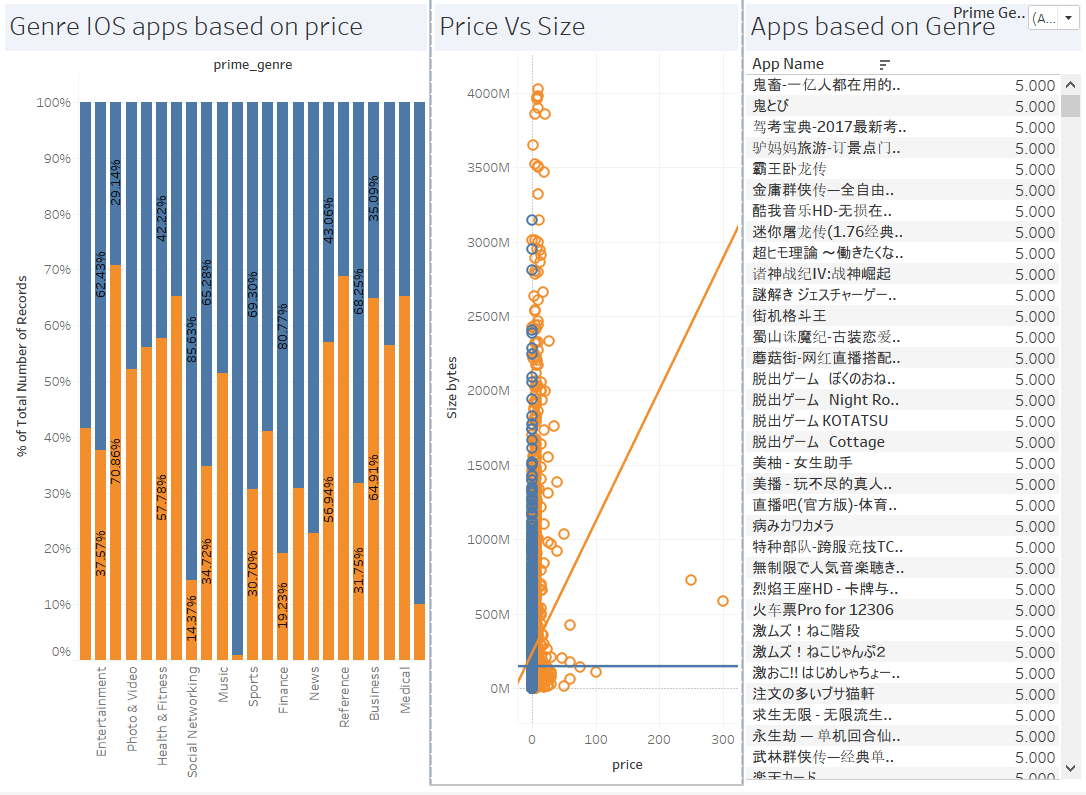

The dashboard page shown, as its layout file describes it:
{"tool":"tableau","page":{"name":"Iphone app based on Genre and size","canvas":[1100,800],"ordinal":8},"visuals":[{"type":"worksheet","title":"Genre IOS apps based on price","mark":"Automatic","cols":["prime_genre"],"box":[8,8,430,784]},{"type":"worksheet","title":"Price Vs Size","mark":"Automatic","rows":["Size bytes"],"cols":["price"],"box":[438,8,311,784]},{"type":"worksheet","title":"Apps based on Genre","mark":"Automatic","rows":["App Name"],"box":[749,8,343,784]},{"type":"filter","title":"Apps based on Genre","param":"[federated.19ns1wl0gw1ajh18opie31qx7pgm].[none:prime_genre:nk]","box":[960,10,130,40]}]}

Visuals, with their boxes in screenshot pixels (x1, y1, x2, y2), scaled from the page's 1100x800 canvas onto the 1086x795 screenshot:
"Genre IOS apps based on price" worksheet: <box>8,8,432,787</box>
"Price Vs Size" worksheet: <box>432,8,739,787</box>
"Apps based on Genre" worksheet: <box>739,8,1078,787</box>
"Apps based on Genre" filter: <box>948,10,1076,50</box>
